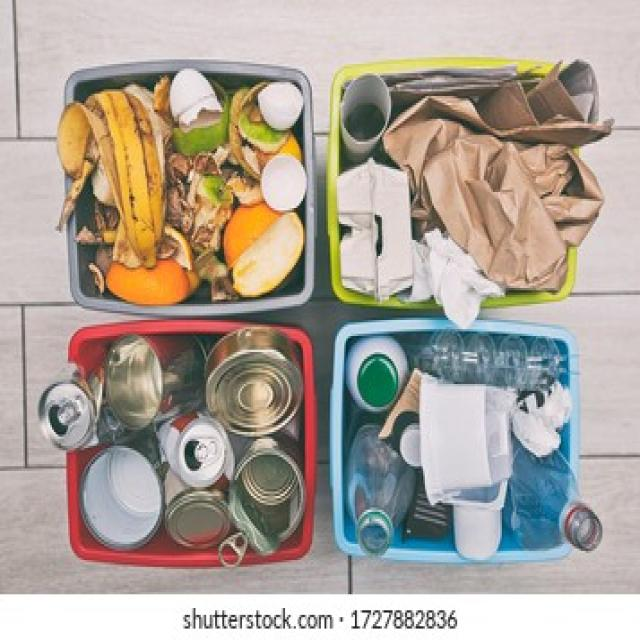cardboard: (339, 84, 563, 300)
metal: (64, 352, 300, 539)
plastic: (353, 345, 559, 549)
trash: (68, 92, 301, 290)
